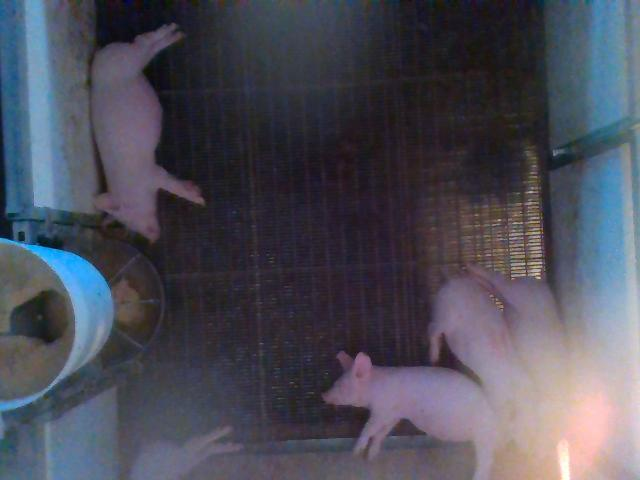pig-4: (429, 275, 540, 449)
